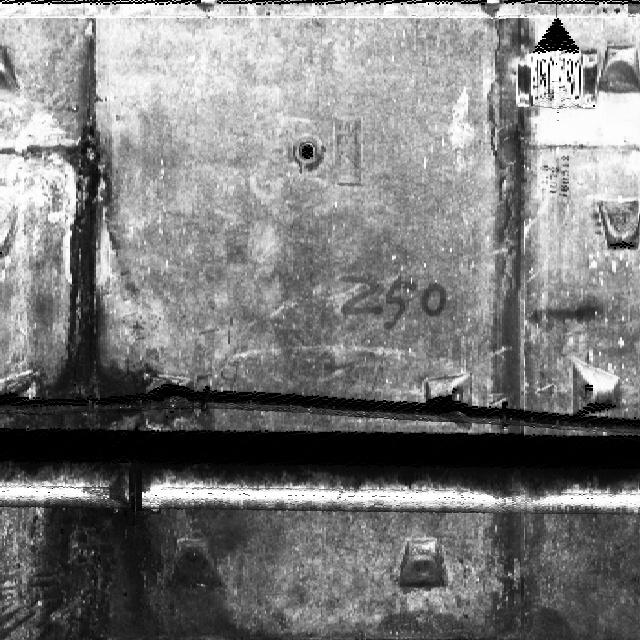leakage: (7, 16, 287, 639), (394, 501, 582, 639), (484, 15, 540, 438)
